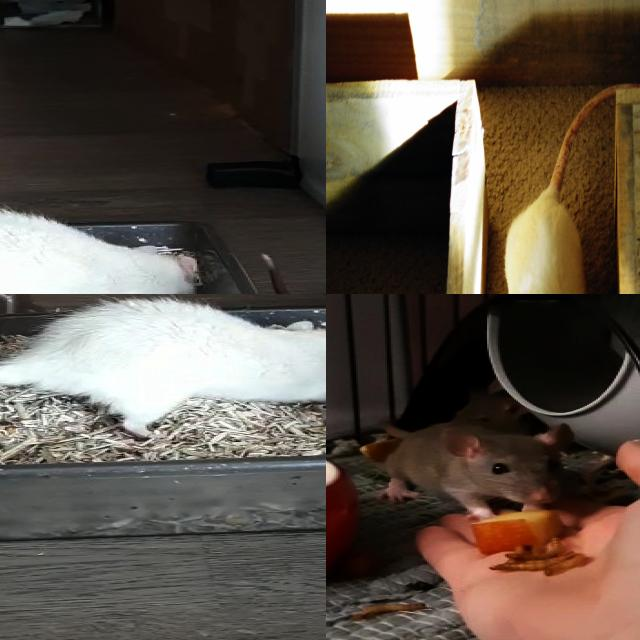rat: (23, 300, 326, 433), (382, 418, 574, 520), (0, 208, 213, 294), (506, 190, 591, 294)
